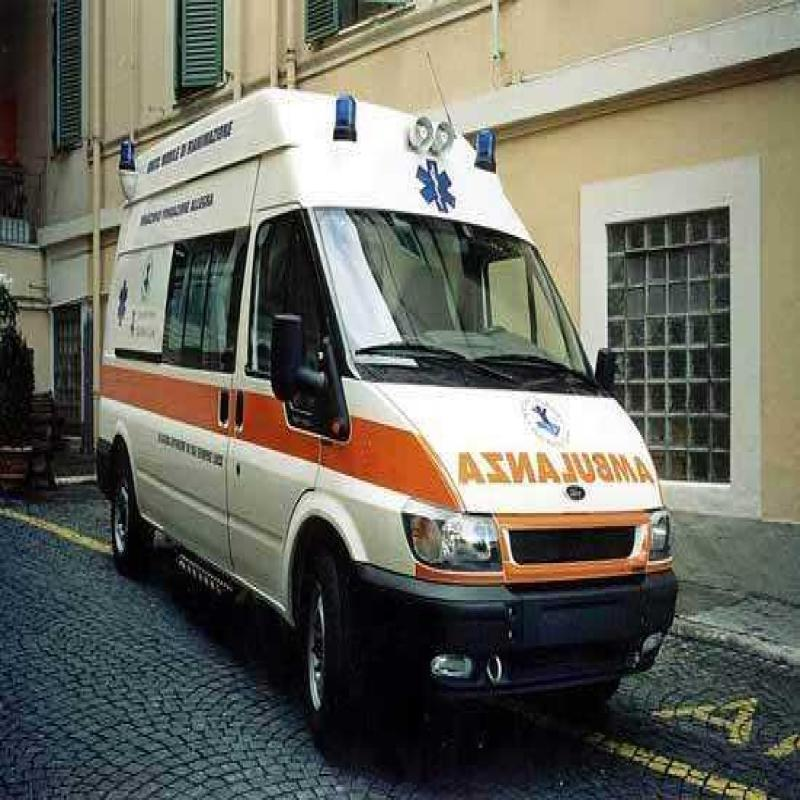AmbulanceSiren: (471, 113, 511, 193), (326, 78, 368, 154)
